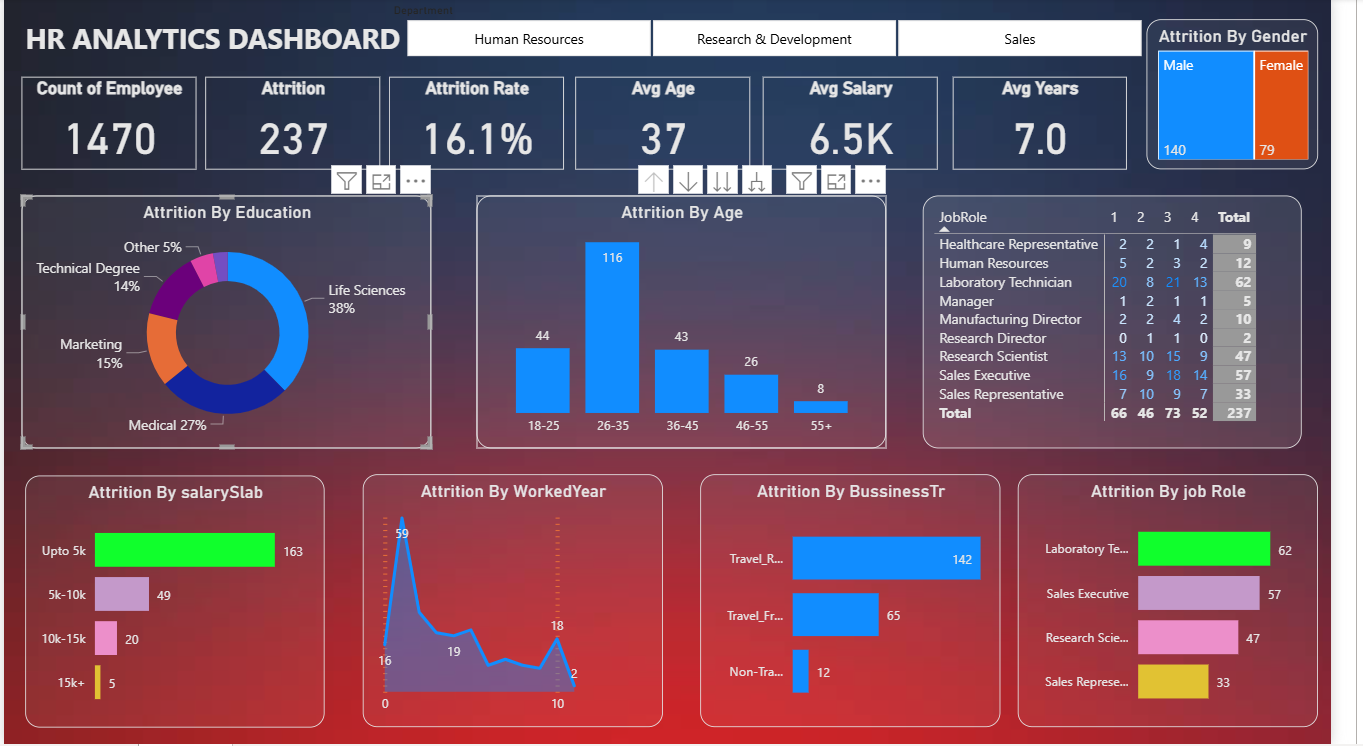

This screenshot's page, from the dashboard's own definition file:
{"tool":"powerbi","page":{"name":"Page 1","canvas":[1280,720],"ordinal":0},"visuals":[{"type":"card","title":"Count of Employee","fields":{"Values":["Count(HR_Analytics.EmpID)"]},"box":[16.6,75.7,168.8,89.2],"z":0},{"type":"card","title":"Attrition","fields":{"Values":["Sum(HR_Analytics.AttritionCount)"]},"box":[194.2,76,168.8,89.2],"z":1000},{"type":"card","title":"Avg Age","fields":{"Values":["Avg(HR_Analytics.Age)"]},"box":[551.2,76,168.8,89.2],"z":2000},{"type":"card","title":"Attrition Rate","fields":{"Values":["HR_Analytics.AttritionRate"]},"box":[371.5,76,168.8,89.2],"z":3000},{"type":"card","title":"Avg Salary","fields":{"Values":["Avg(HR_Analytics.MonthlyIncome)"]},"box":[732.1,76,168.8,89.2],"z":4000},{"type":"card","title":"Avg Years","fields":{"Values":["Avg(HR_Analytics.YearsAtCompany)"]},"box":[915.4,76,167.6,89.2],"z":5000},{"type":"donutChart","title":"Attrition By Education","fields":{"Category":["HR_Analytics.EducationField"],"Y":["Sum(HR_Analytics.AttritionCount)"]},"box":[16.9,190.6,395.6,243.6],"z":6000},{"type":"columnChart","title":"Attrition By Age","fields":{"Category":["HR_Analytics.AgeGroup","HR_Analytics.EducationField"],"Y":["Sum(HR_Analytics.AttritionCount)"]},"box":[455.9,190.6,395.6,243.6],"z":7000},{"type":"pivotTable","fields":{"Rows":["HR_Analytics.JobRole"],"Columns":["HR_Analytics.JobSatisfaction"],"Values":["Sum(HR_Analytics.AttritionCount)"]},"box":[886.4,190.6,365.4,243.6],"z":8000},{"type":"barChart","title":"Attrition By salarySlab","fields":{"Category":["HR_Analytics.SalarySlab"],"Y":["Sum(HR_Analytics.AttritionCount)"]},"box":[20.6,460.7,289,243],"z":9000},{"type":"barChart","title":"Attrition By job Role","fields":{"Category":["HR_Analytics.JobRole"],"Y":["Sum(HR_Analytics.AttritionCount)"]},"box":[978.1,459.5,289.4,243.6],"z":10000},{"type":"areaChart","title":"Attrition By WorkedYear","fields":{"Category":["HR_Analytics.YearsAtCompany"],"Y":["Sum(HR_Analytics.AttritionCount)"]},"box":[346.1,459.5,289.4,243.6],"z":11000},{"type":"treemap","title":"Attrition By Gender","fields":{"Group":["HR_Analytics.Gender"],"Values":["Sum(HR_Analytics.AttritionCount)"]},"box":[1102.3,20.5,165.2,144.7],"z":12000},{"type":"slicer","fields":{"Values":["HR_Analytics.Department"]},"box":[363,0,758.6,62.7],"z":13000},{"type":"textbox","box":[15.7,15.7,390.8,47],"z":14000},{"type":"barChart","title":"Attrition By BussinessTr","fields":{"Category":["HR_Analytics.BusinessTravel"],"Y":["Sum(HR_Analytics.AttritionCount)"]},"box":[671.8,459.5,289.4,243.6],"z":15000}]}

Visuals, with their boxes in screenshot pixels (x1, y1, x2, y2), scaled from the page's 1280x720 canvas onto the 1363x746 screenshot:
"Count of Employee" card: 18 78 197 171
"Attrition" card: 207 79 387 171
"Avg Age" card: 587 79 767 171
"Attrition Rate" card: 396 79 575 171
"Avg Salary" card: 780 79 959 171
"Avg Years" card: 975 79 1153 171
"Attrition By Education" donutChart: 18 197 439 450
"Attrition By Age" columnChart: 485 197 907 450
pivotTable - HR_Analytics.JobRole x HR_Analytics.JobSatisfaction: 944 197 1333 450
"Attrition By salarySlab" barChart: 22 477 330 729
"Attrition By job Role" barChart: 1042 476 1350 728
"Attrition By WorkedYear" areaChart: 369 476 677 728
"Attrition By Gender" treemap: 1174 21 1350 171
slicer - HR_Analytics.Department: 387 0 1194 65
textbox: 17 16 433 65
"Attrition By BussinessTr" barChart: 715 476 1024 728
